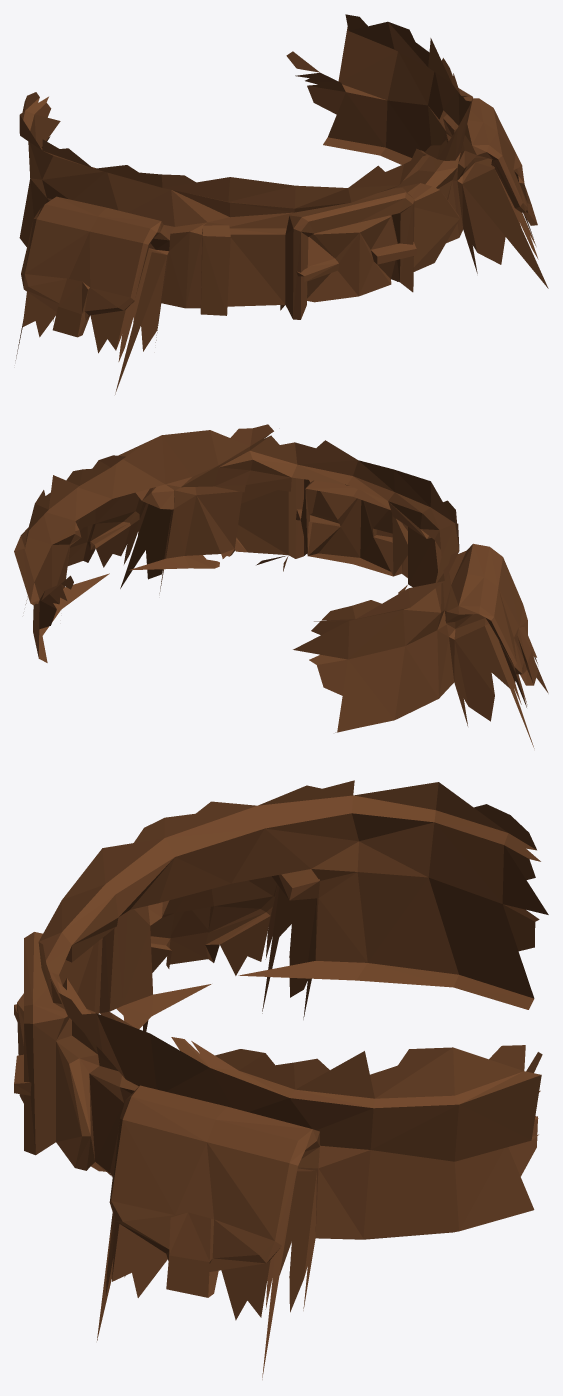
Rendered from guertel.glb.
The picture shows the model from 3 angles, top to bottom: view 1: azimuth 30°, elevation 25°; view 2: azimuth 150°, elevation 25°; view 3: azimuth 270°, elevation 25°; orthographic projection. The views are drawn at different scales.
Parts seen in each view (by area): view 1: guertel; view 2: guertel; view 3: guertel.
Part boxes in pixels (x1=…): guertel: x1=15, y1=14, x2=548, y2=394; guertel: x1=14, y1=424, x2=548, y2=748; guertel: x1=14, y1=780, x2=548, y2=1379.
Bounding box in the file's own units: 0.5532 × 0.1986 × 0.3408.
